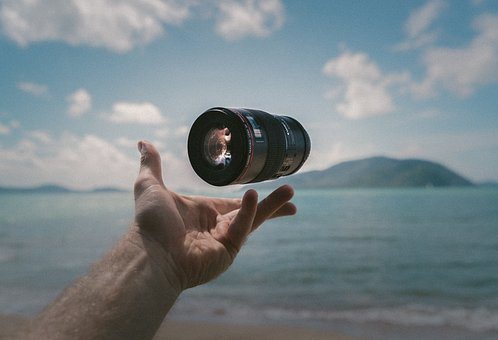palm: (130, 190, 247, 273)
